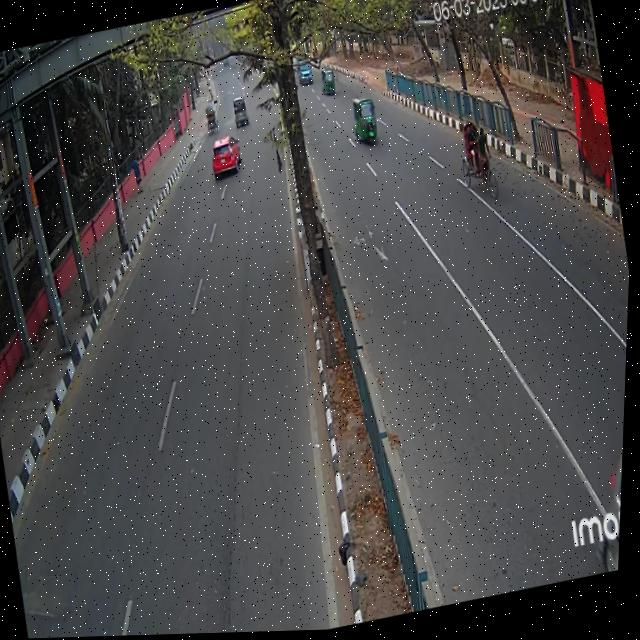cng: (349, 91, 387, 153), (320, 67, 339, 103)
rikshaw: (453, 116, 505, 204), (200, 101, 222, 138)
